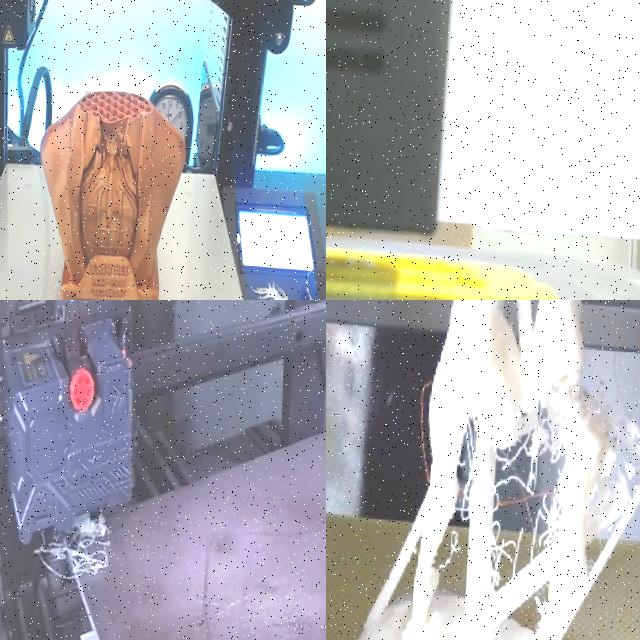spaghetti: (496, 446, 556, 568), (33, 512, 114, 590)
